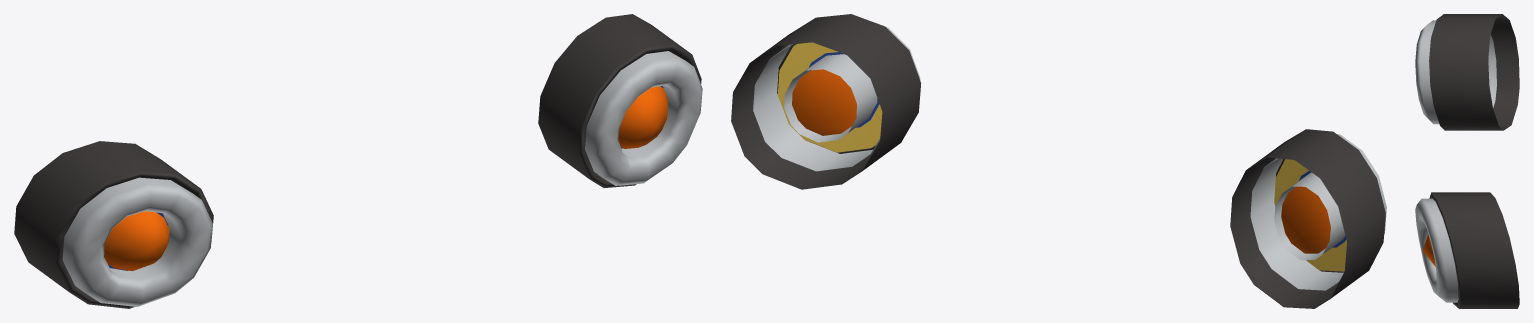
Rendered from Car_01_Headlight_Cool.fbx.
The picture shows the model from 3 angles, left to right: view 1: azimuth 30°, elevation 25°; view 2: azimuth 150°, elevation 25°; view 3: azimuth 270°, elevation 25°; orthographic projection. The views are drawn at different scales.
Parts seen in each view (by area): view 1: Car_01_Headlight_Cool; view 2: Car_01_Headlight_Cool; view 3: Car_01_Headlight_Cool.
Part boxes in pixels (x1,y1,x2,y2): Car_01_Headlight_Cool: [14, 14, 702, 308]; Car_01_Headlight_Cool: [731, 14, 1386, 308]; Car_01_Headlight_Cool: [1415, 14, 1519, 308].
Bounding box in the file's own units: 139 × 26.99 × 30.12.
